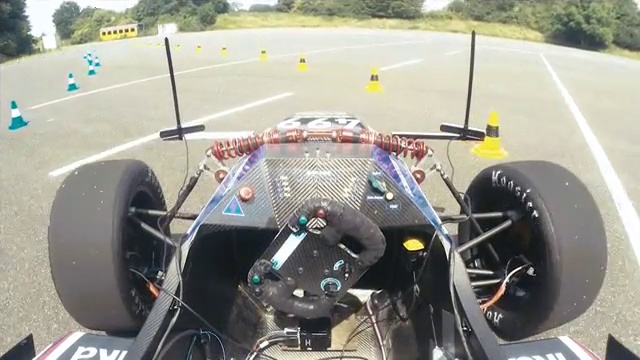Cone: (472, 110, 509, 157), (7, 98, 29, 131), (364, 65, 384, 92), (65, 73, 79, 92)
